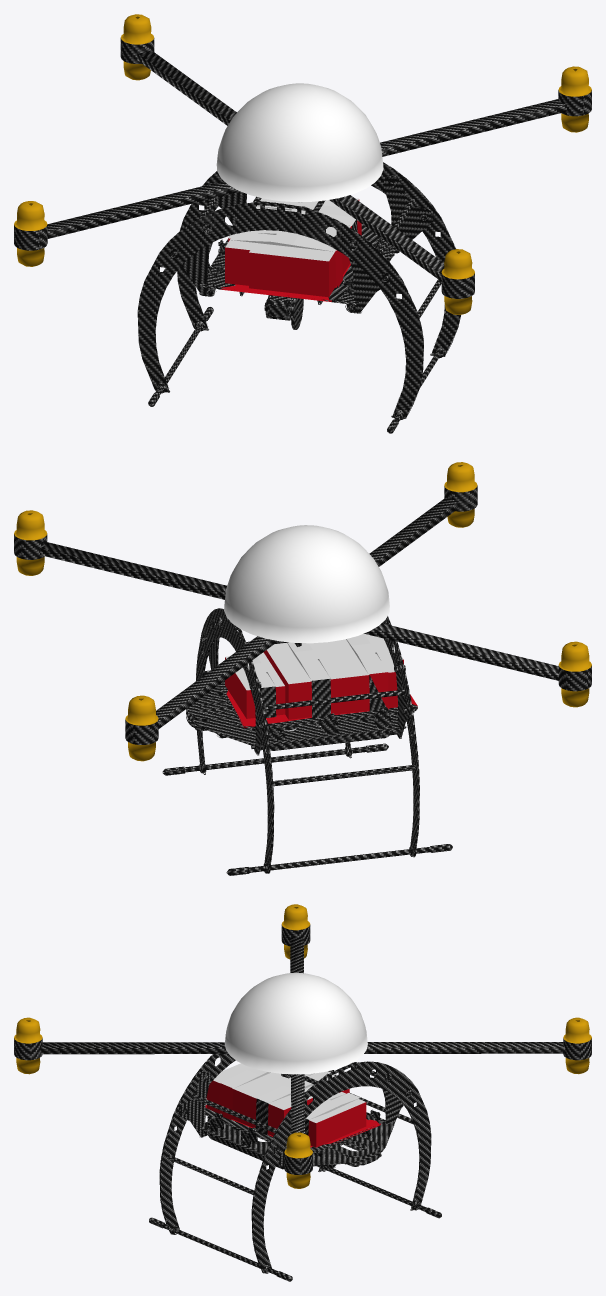
File: bonebraker.dae
3 renders of one model, top to bottom at view 1: azimuth 30°, elevation 25°; view 2: azimuth 150°, elevation 25°; view 3: azimuth 270°, elevation 25°, orthographic. The views are drawn at different scales.
Visible parts, largest first — view 1: Bonebreaker, Bonebreaker_001, Bonebreaker_008, Bonebreaker_007, Bonebreaker_006, Bonebreaker_002, Bonebreaker_004, Bonebreaker_005, Bonebreaker_003; view 2: Bonebreaker, Bonebreaker_001, Bonebreaker_008, Bonebreaker_006, Bonebreaker_007, Bonebreaker_004, Bonebreaker_002, Bonebreaker_003, Bonebreaker_005; view 3: Bonebreaker, Bonebreaker_001, Bonebreaker_008, Bonebreaker_007, Bonebreaker_006, Bonebreaker_002, Bonebreaker_004, Bonebreaker_003.
Boxes of the visible parts, box(x1,y1,x2,y2) form: Bonebreaker: box(137, 162, 460, 433); Bonebreaker_001: box(216, 83, 383, 201); Bonebreaker_008: box(14, 38, 591, 298); Bonebreaker_007: box(220, 199, 361, 301); Bonebreaker_006: box(225, 198, 358, 261); Bonebreaker_002: box(121, 14, 591, 96); Bonebreaker_004: box(14, 201, 474, 279); Bonebreaker_005: box(17, 248, 472, 314); Bonebreaker_003: box(123, 61, 588, 132); Bonebreaker: box(162, 608, 452, 875); Bonebreaker_001: box(224, 525, 389, 643); Bonebreaker_008: box(14, 485, 591, 744); Bonebreaker_006: box(225, 634, 403, 690); Bonebreaker_007: box(225, 650, 417, 728); Bonebreaker_004: box(444, 462, 591, 671); Bonebreaker_002: box(14, 510, 158, 725); Bonebreaker_003: box(16, 557, 155, 761); Bonebreaker_005: box(447, 509, 589, 707); Bonebreaker: box(149, 1054, 441, 1281); Bonebreaker_001: box(224, 972, 367, 1074); Bonebreaker_008: box(14, 925, 591, 1174); Bonebreaker_007: box(205, 1080, 380, 1147); Bonebreaker_006: box(213, 1063, 365, 1122); Bonebreaker_002: box(284, 1017, 591, 1158); Bonebreaker_004: box(14, 904, 310, 1043); Bonebreaker_003: box(286, 1058, 589, 1188).
Size of the model in its own units: 0.8406 by 0.8551 by 0.3966.
4 materials, 1 textured.
